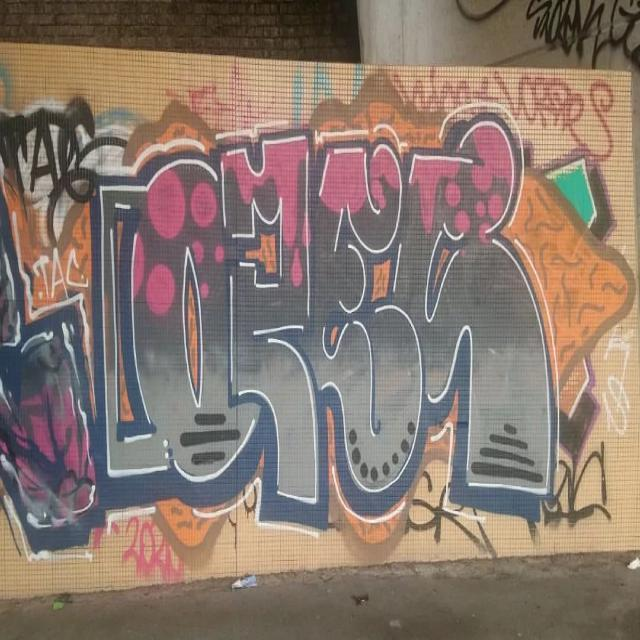nonspitting: (86, 119, 557, 528), (2, 113, 96, 203), (529, 0, 640, 67)
